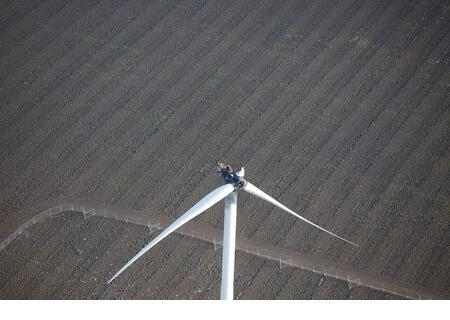faulty: (185, 157, 274, 234)
